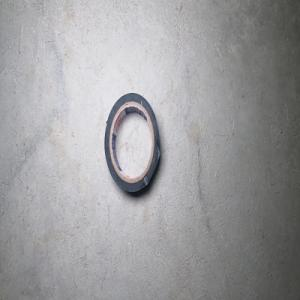Tape: (103, 91, 161, 197)
